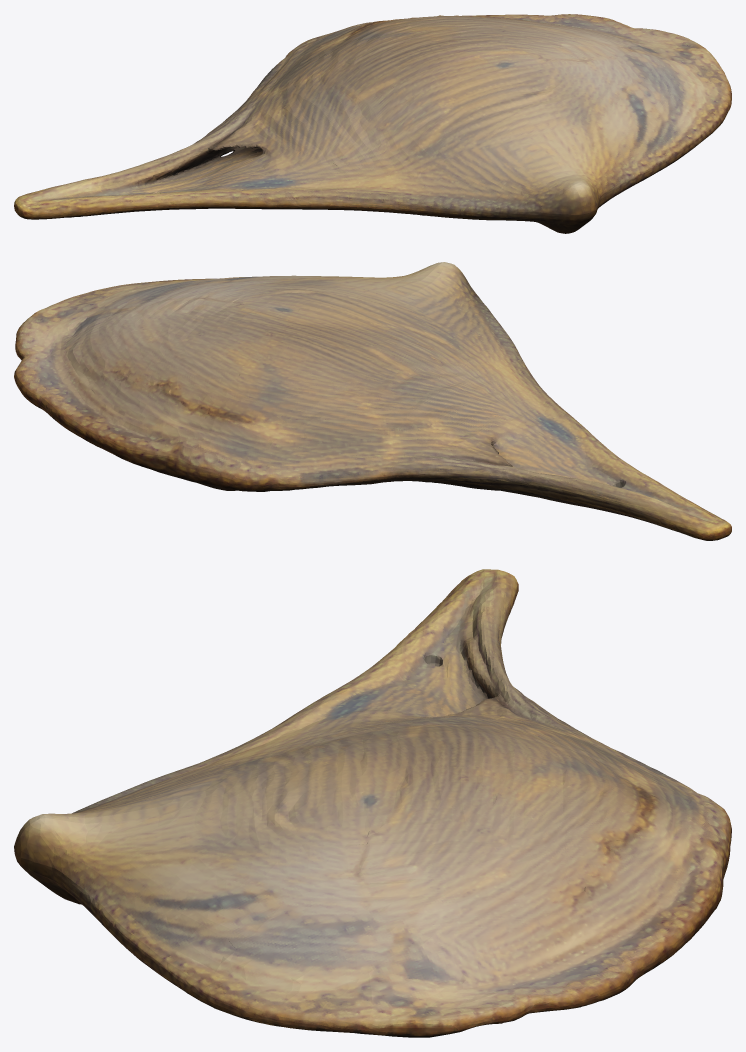
3 views of the same model, one above another, from view 1: azimuth 30°, elevation 25°; view 2: azimuth 150°, elevation 25°; view 3: azimuth 270°, elevation 25° (orthographic). The views are drawn at different scales.
Visible parts, largest first — view 1: world; view 2: world; view 3: world.
Boxes of the visible parts, x1,y1,x2,y2 form: world: (14,14,731,233); world: (14,262,731,540); world: (14,569,731,1037).
Bounding box in the file's own units: 1 × 0.1709 × 0.6349.
1 material, 1 textured.
